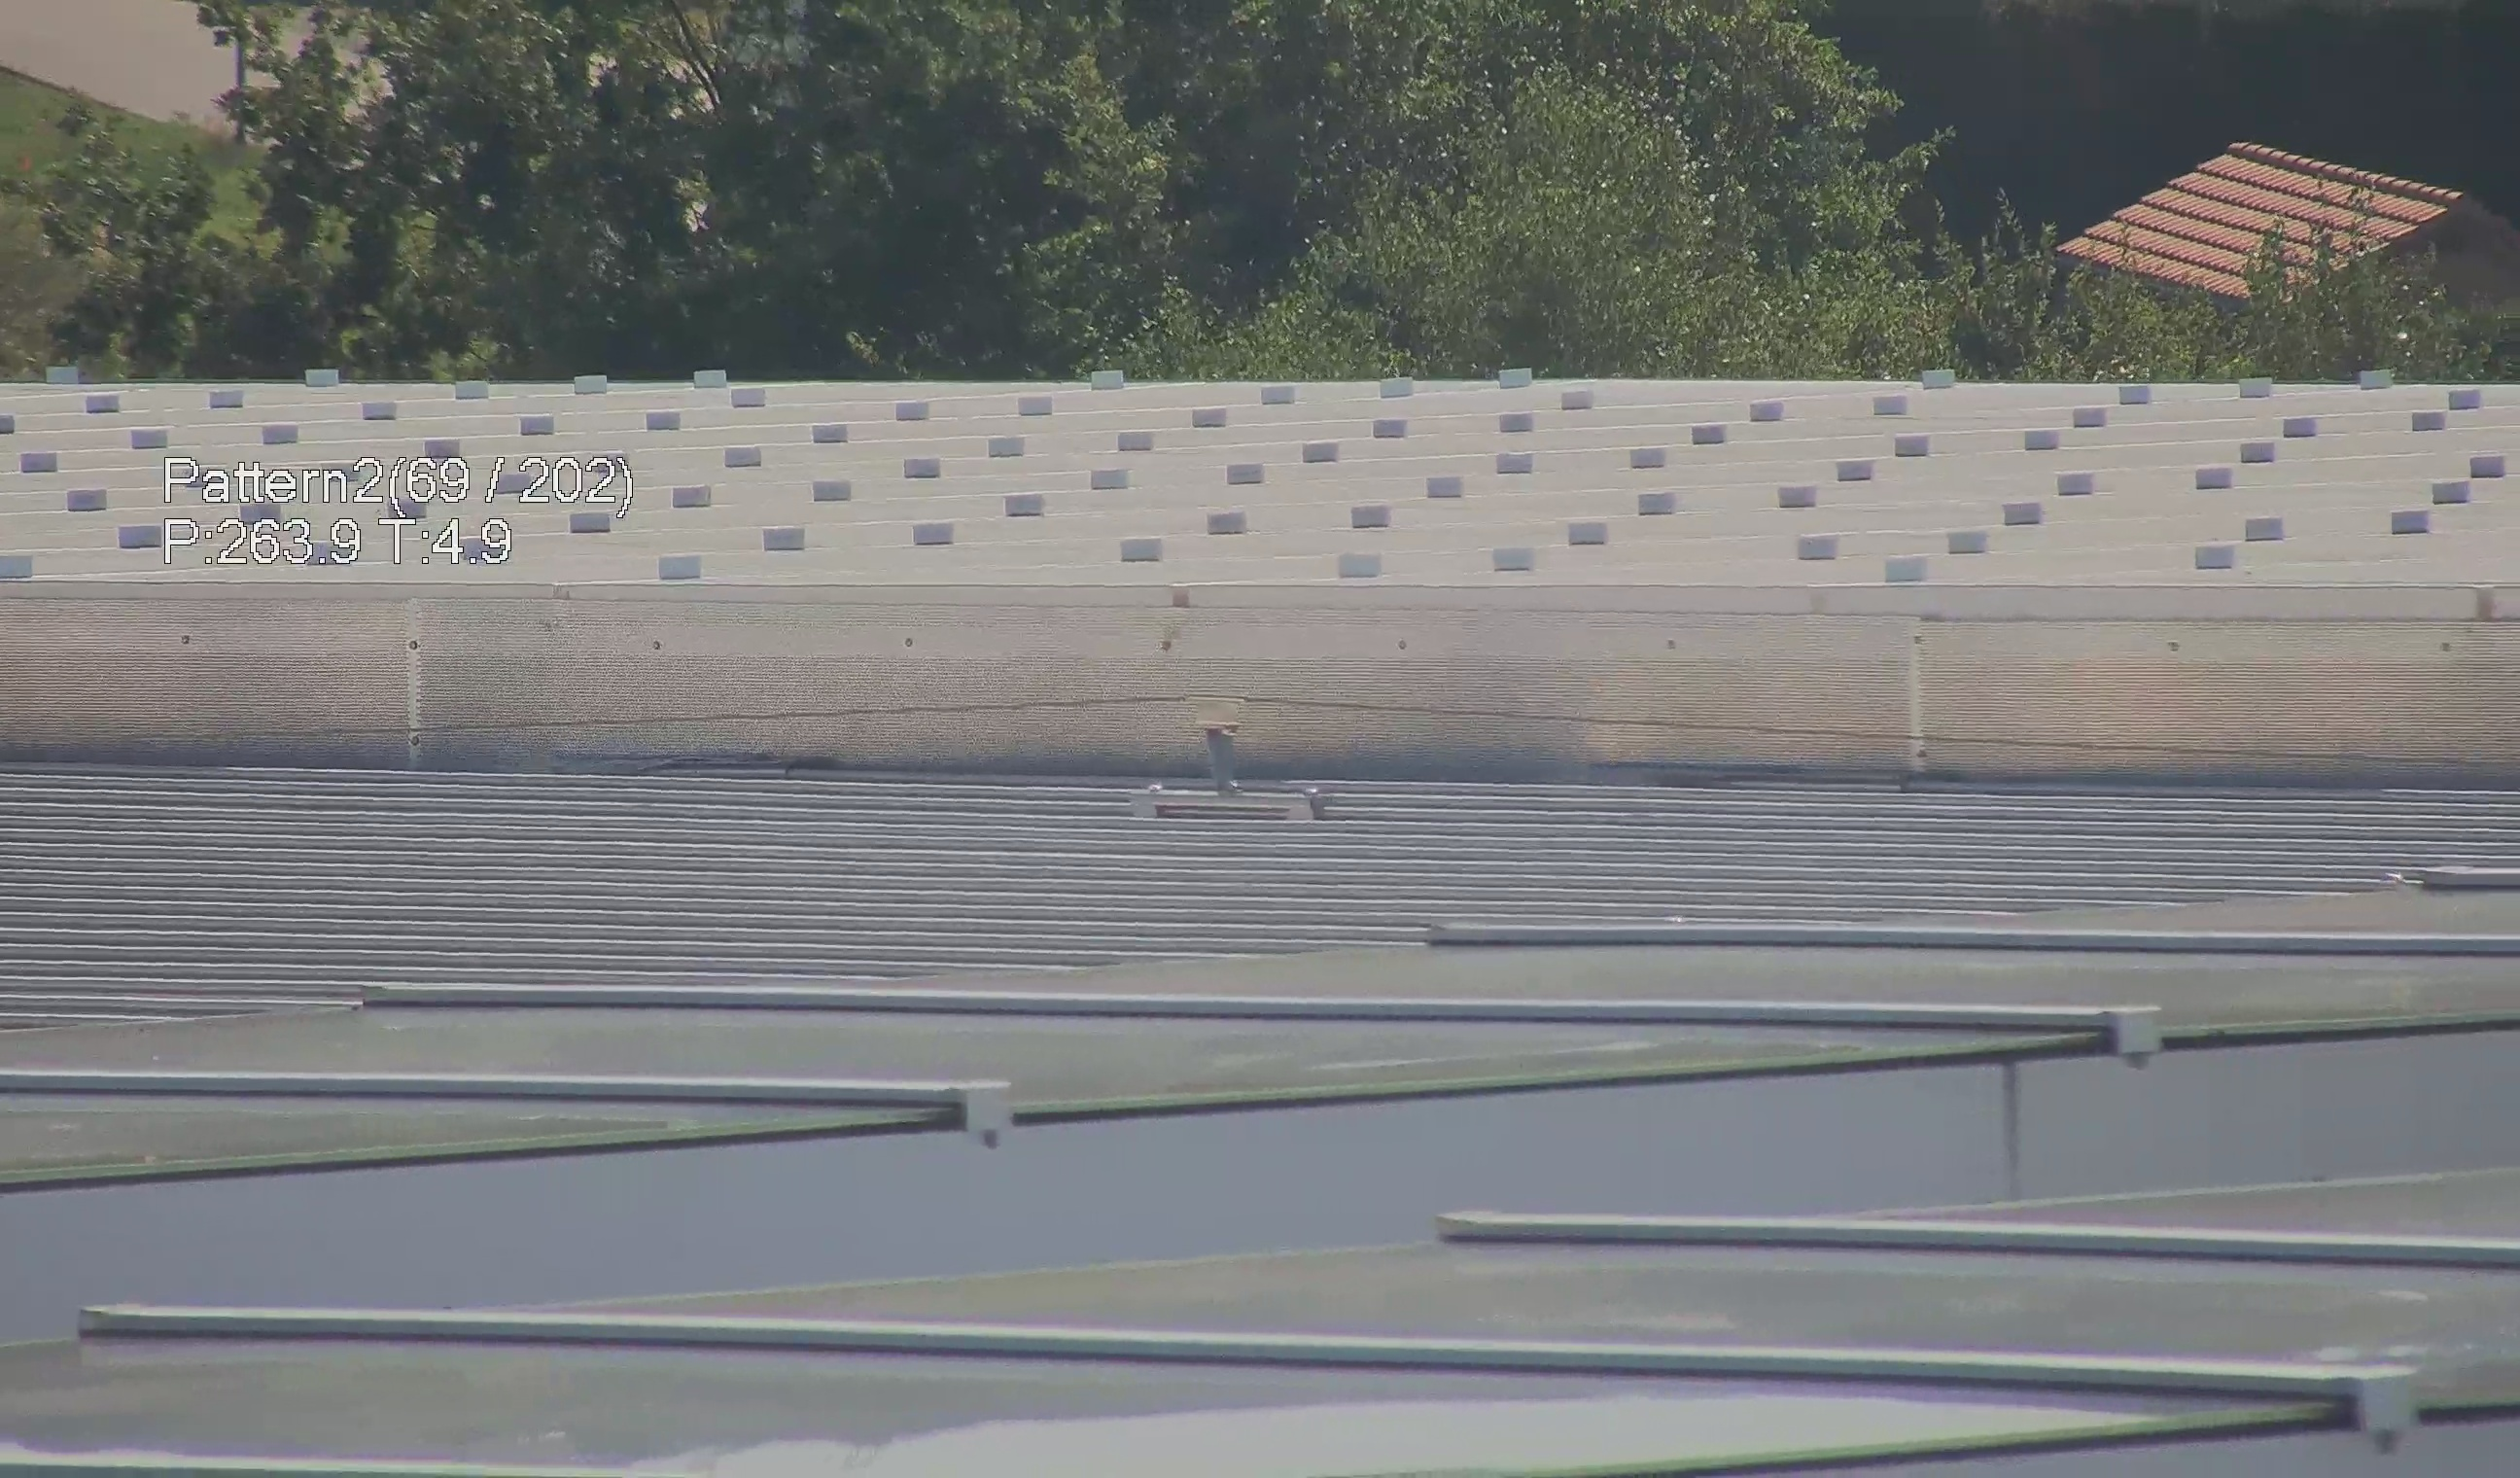Other: (1173, 714, 1296, 813)
